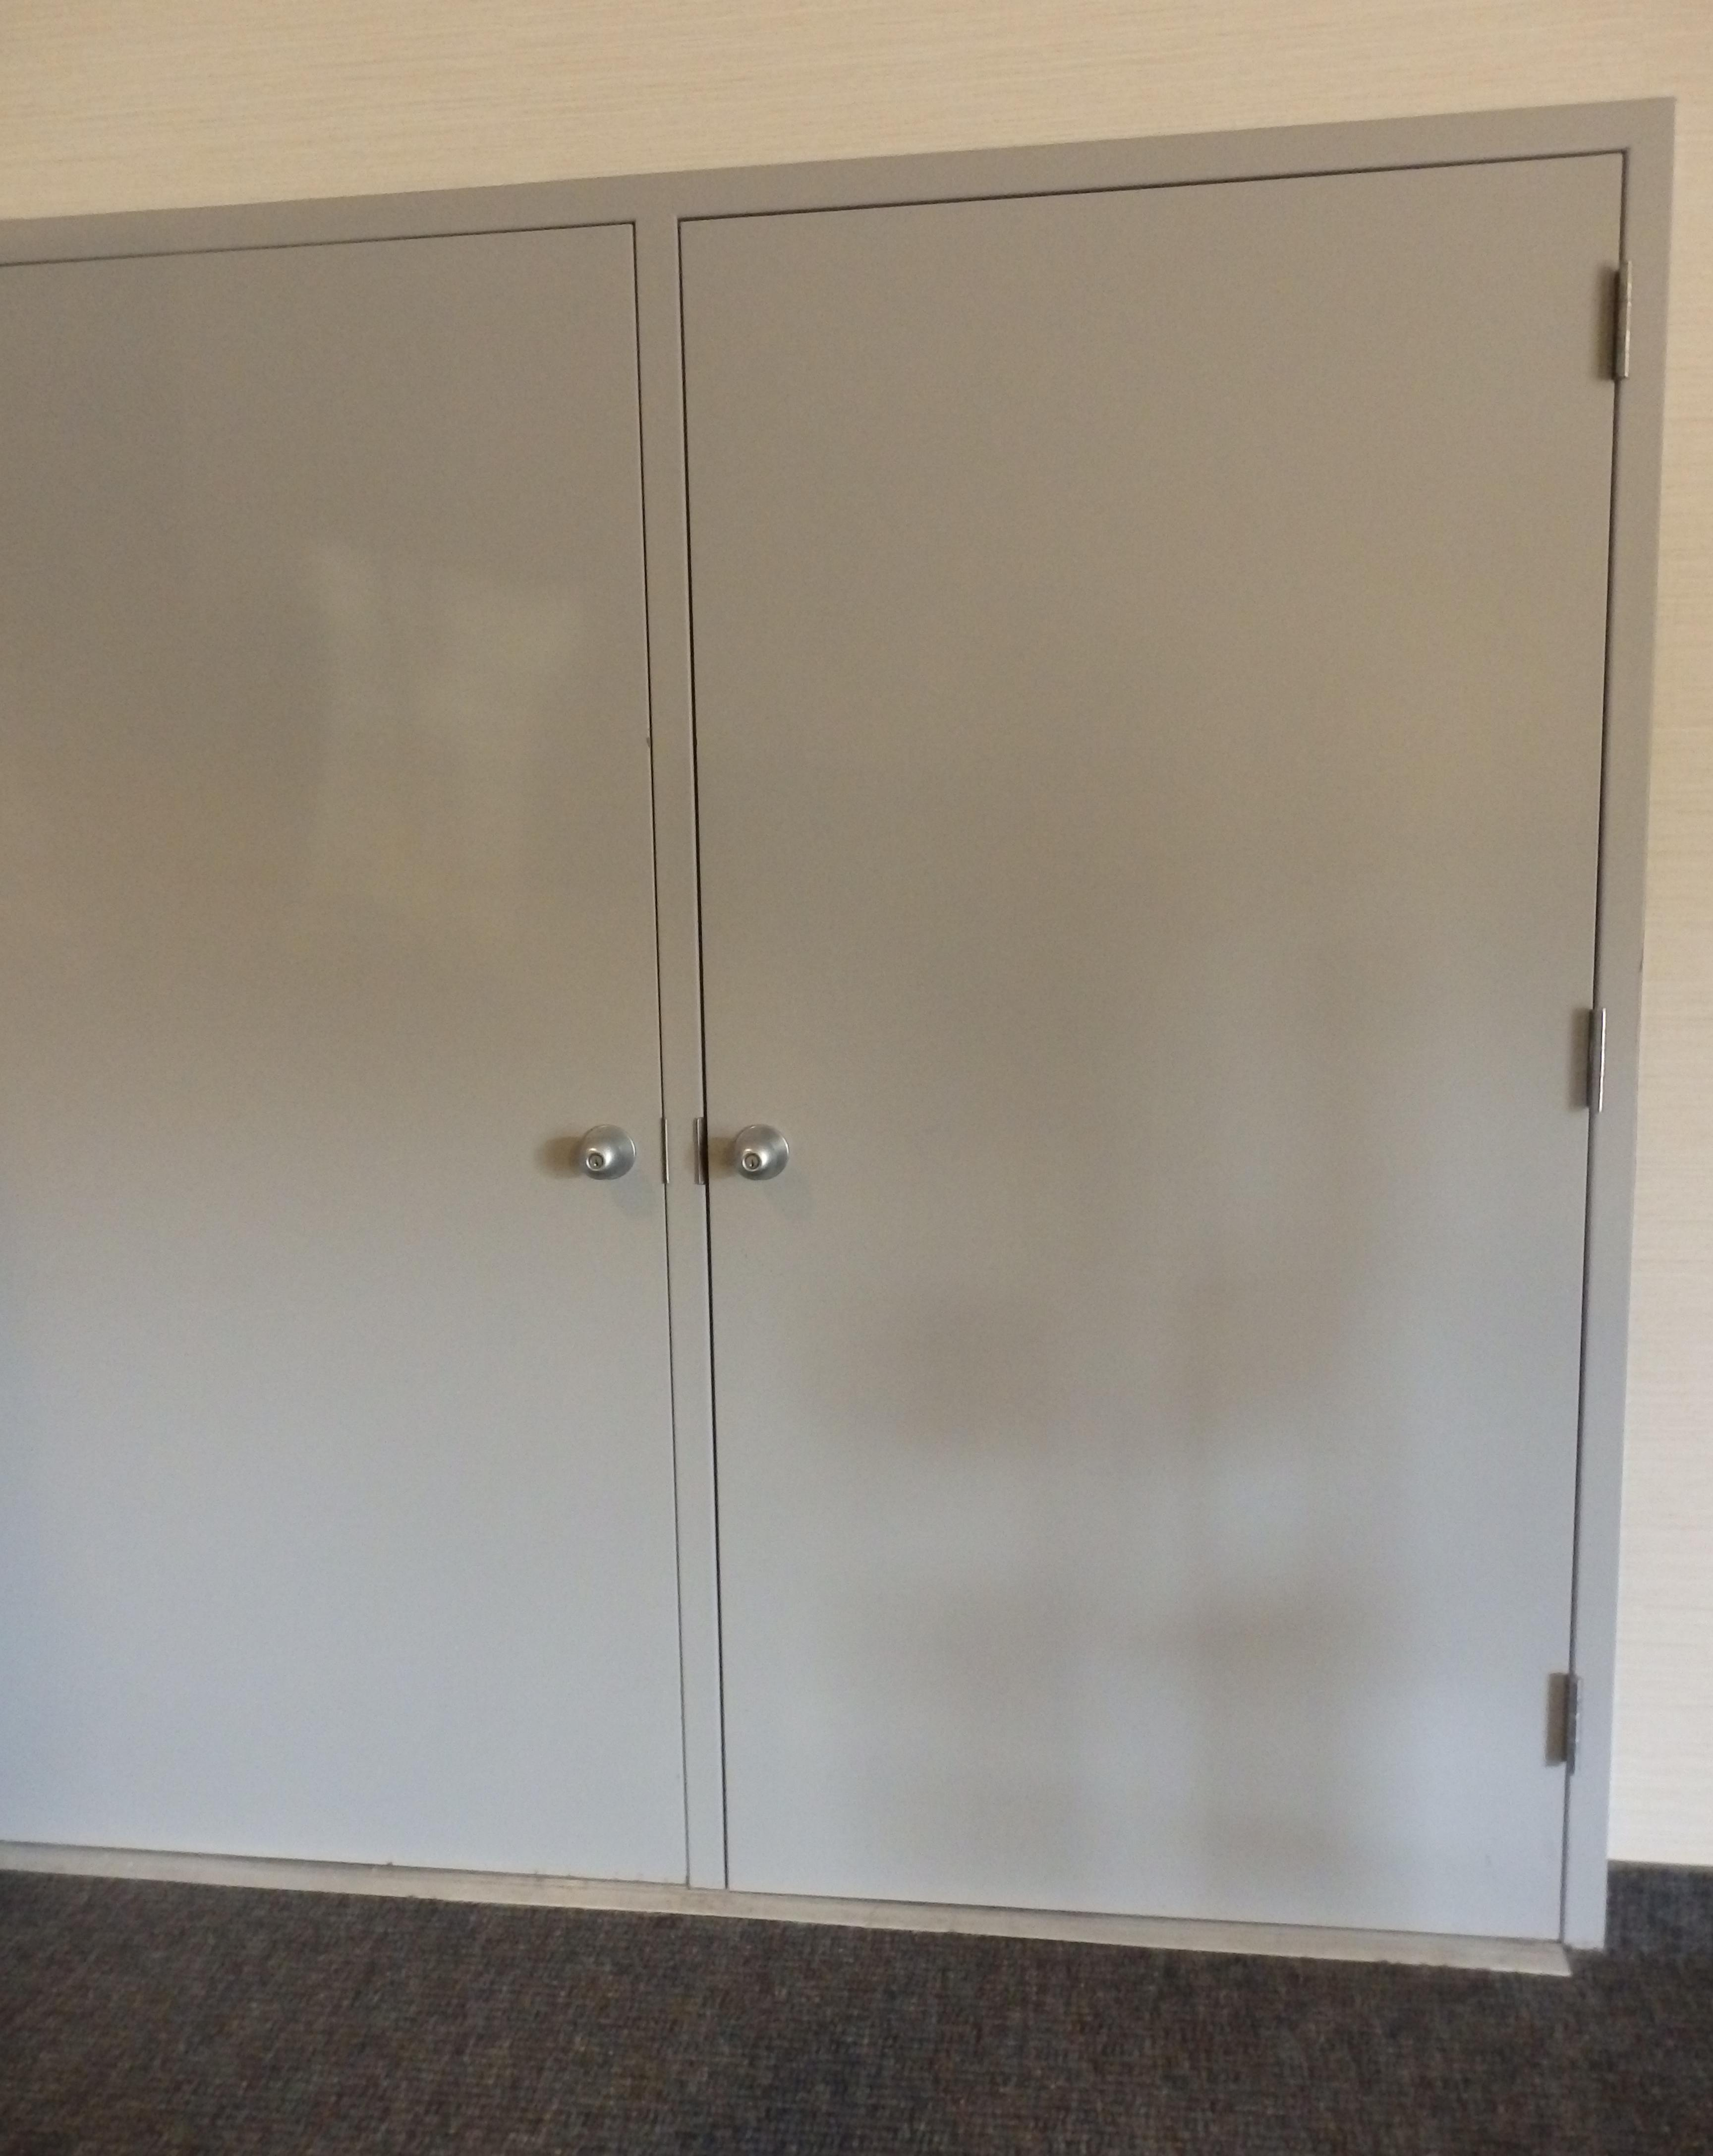door: (2, 109, 1664, 1981)
